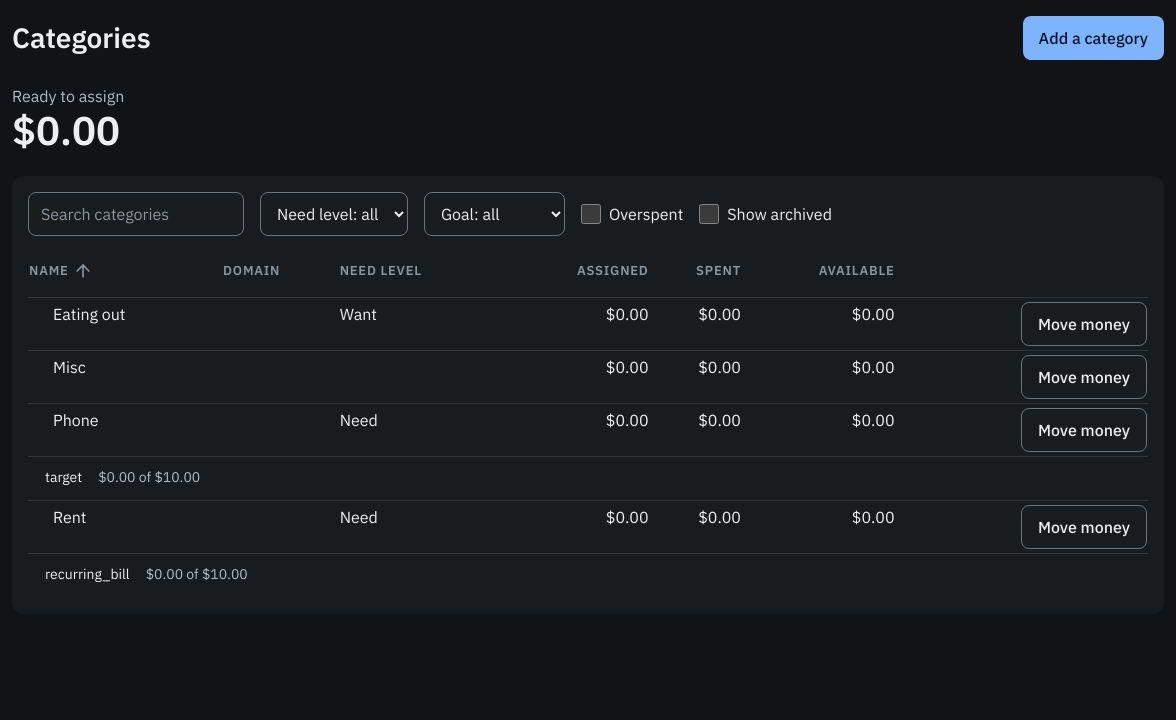
Test: Categories filters › narrows by need level and by goal kind, then clears
Expected: the text "Rent" is shown, [53, 507, 86, 527]
Select "Want" in the dropdown named "Filter by need level": (334, 214) [260, 192, 408, 236]
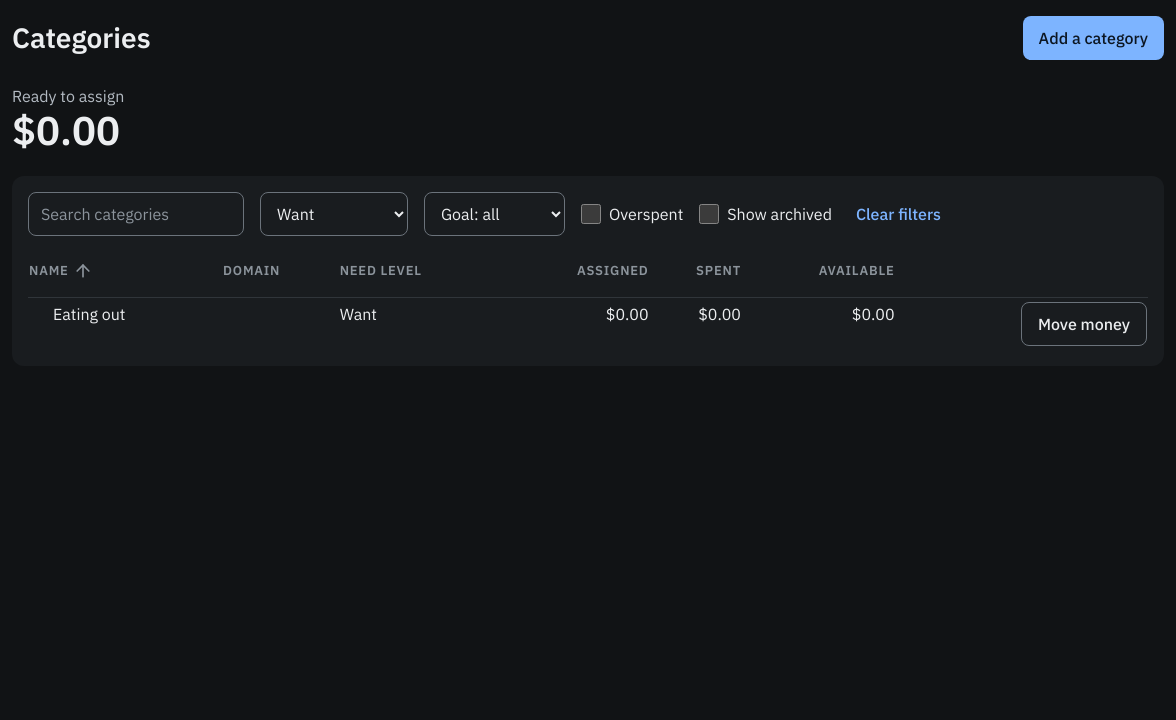
Expected: the text "Eating out" is shown, [53, 304, 126, 324]
Expected: the text "Rent" is gone
Click the button "Clear filters": (898, 214) [848, 192, 949, 236]
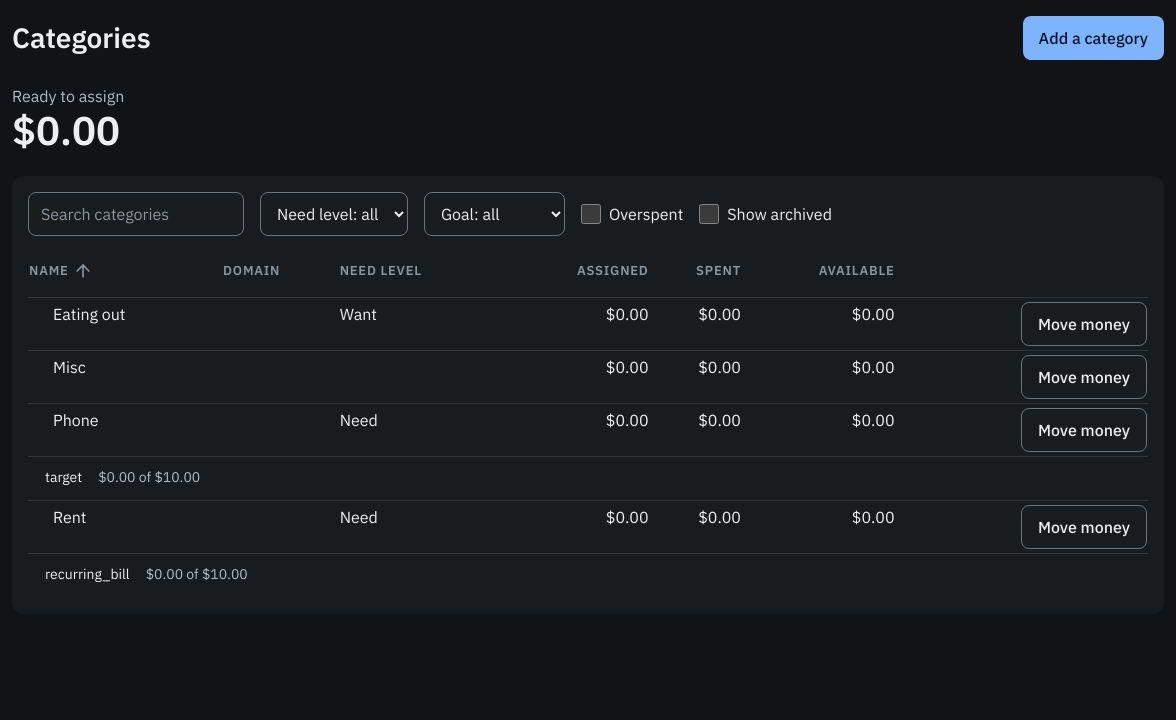
Select "Target" in the dropdown named "Filter by goal": (494, 214) [424, 192, 565, 236]
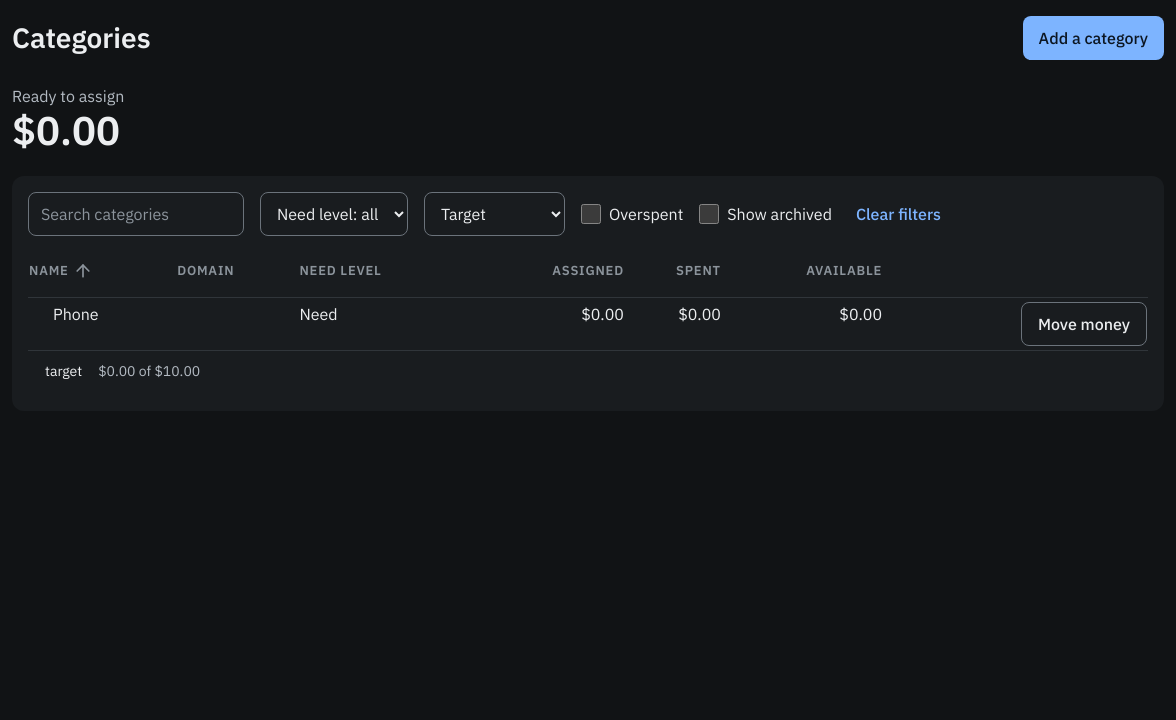
Expected: the text "Phone" is shown, [53, 304, 99, 324]
Expected: the text "Rent" is gone
Select "No goal" in the dropdown named "Filter by goal": (494, 214) [424, 192, 565, 236]
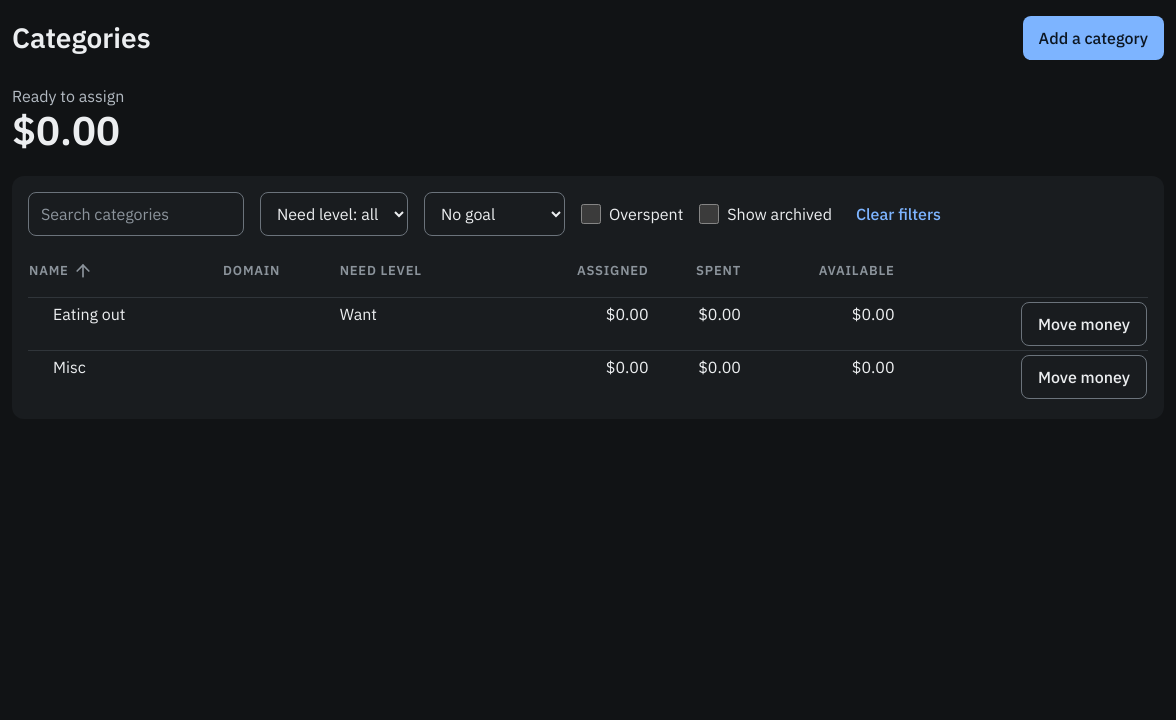
Expected: the text "Eating out" is shown, [53, 304, 126, 324]
Expected: the text "Phone" is gone
Click the button "Clear filters": (898, 214) [848, 192, 949, 236]
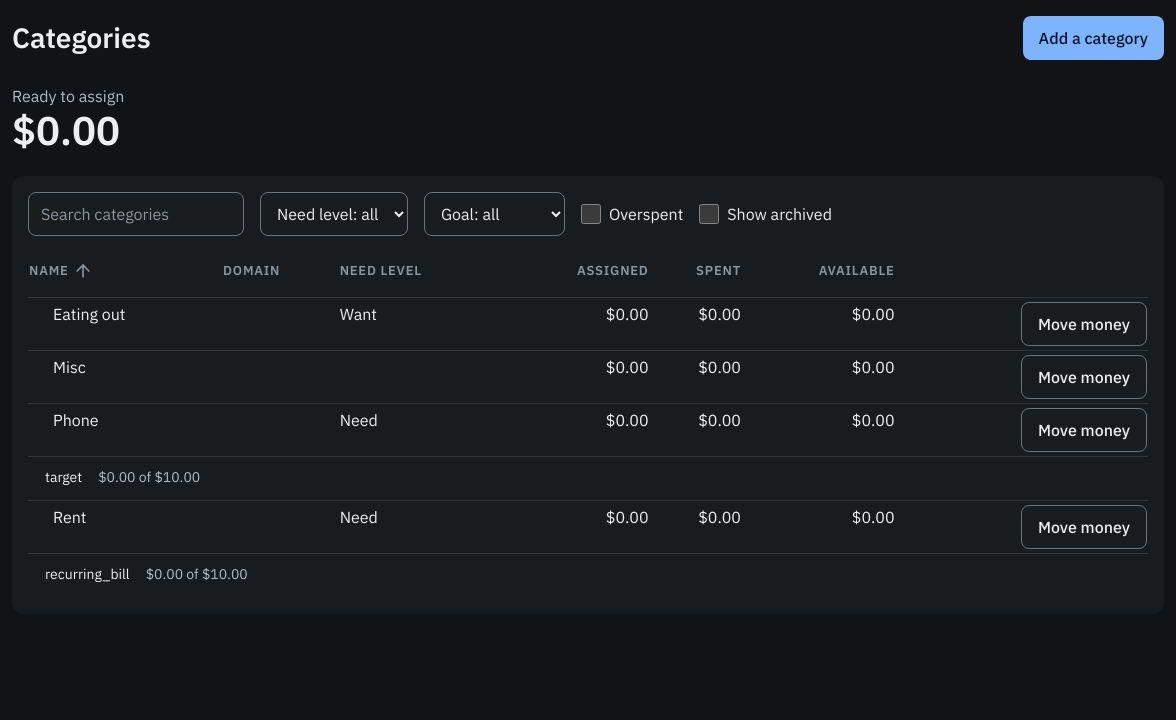
Expected: the text "Rent" is shown, [53, 507, 86, 527]
Expected: the text "Phone" is shown, [53, 410, 99, 430]
